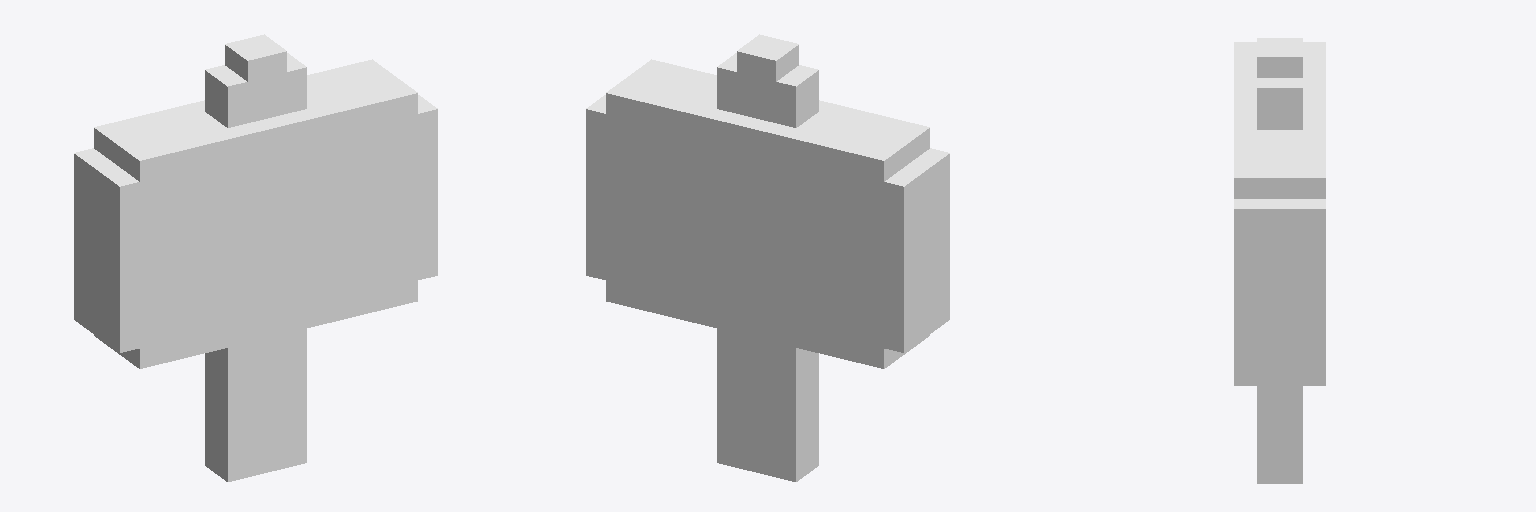
File: SirSign.obj
3 views of the same model, side by side, from view 1: azimuth 30°, elevation 25°; view 2: azimuth 150°, elevation 25°; view 3: azimuth 270°, elevation 25° (orthographic).
Visible parts, largest first — view 1: object 1; view 2: object 1; view 3: object 1.
Part boxes in pixels (left/top/right/bottom): object 1: left=74, top=34, right=437, bottom=481; object 1: left=586, top=34, right=949, bottom=481; object 1: left=1234, top=38, right=1325, bottom=483.
Bounding box in the file's own units: 1.6 × 2 × 0.4.